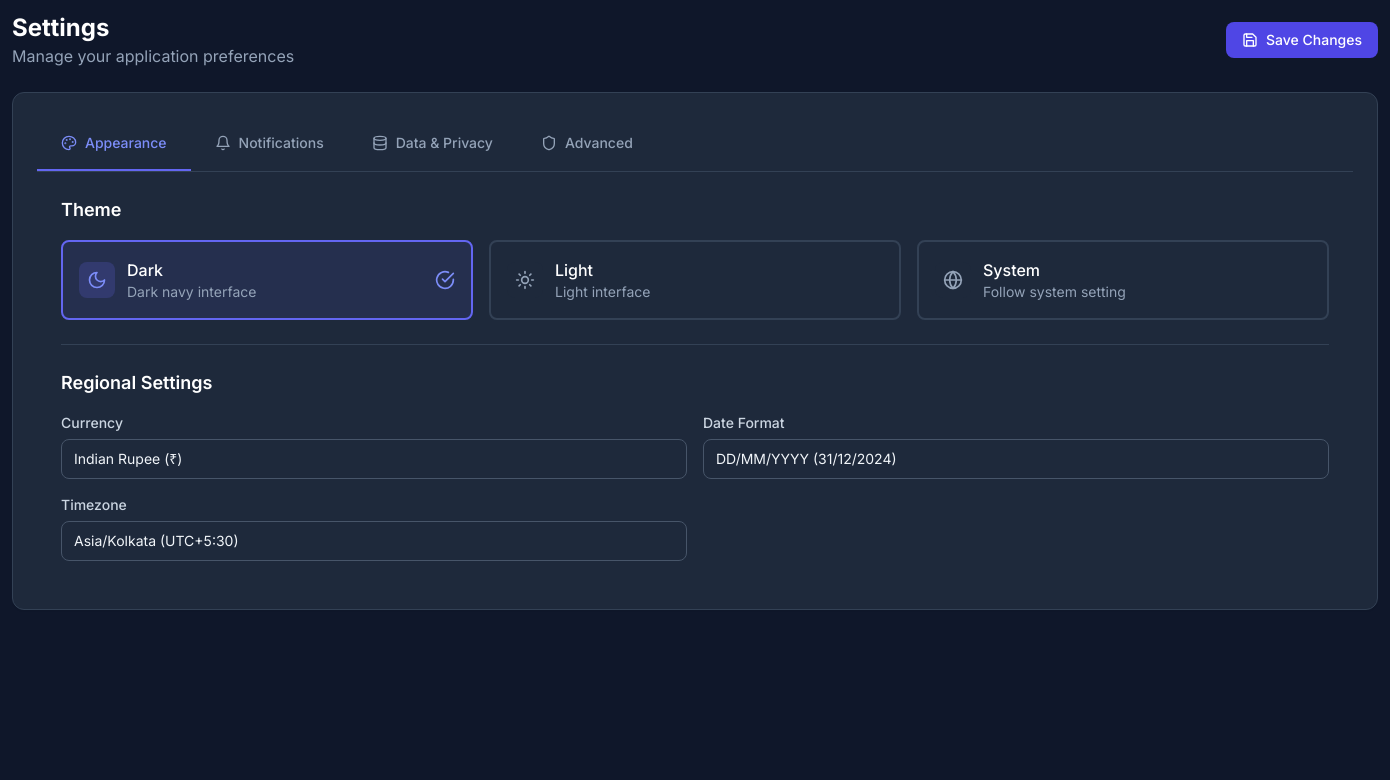
Settings Page › shows a saved confirmation after saving
Click the button "Save Changes": click(1302, 40) [1226,22,1378,58]
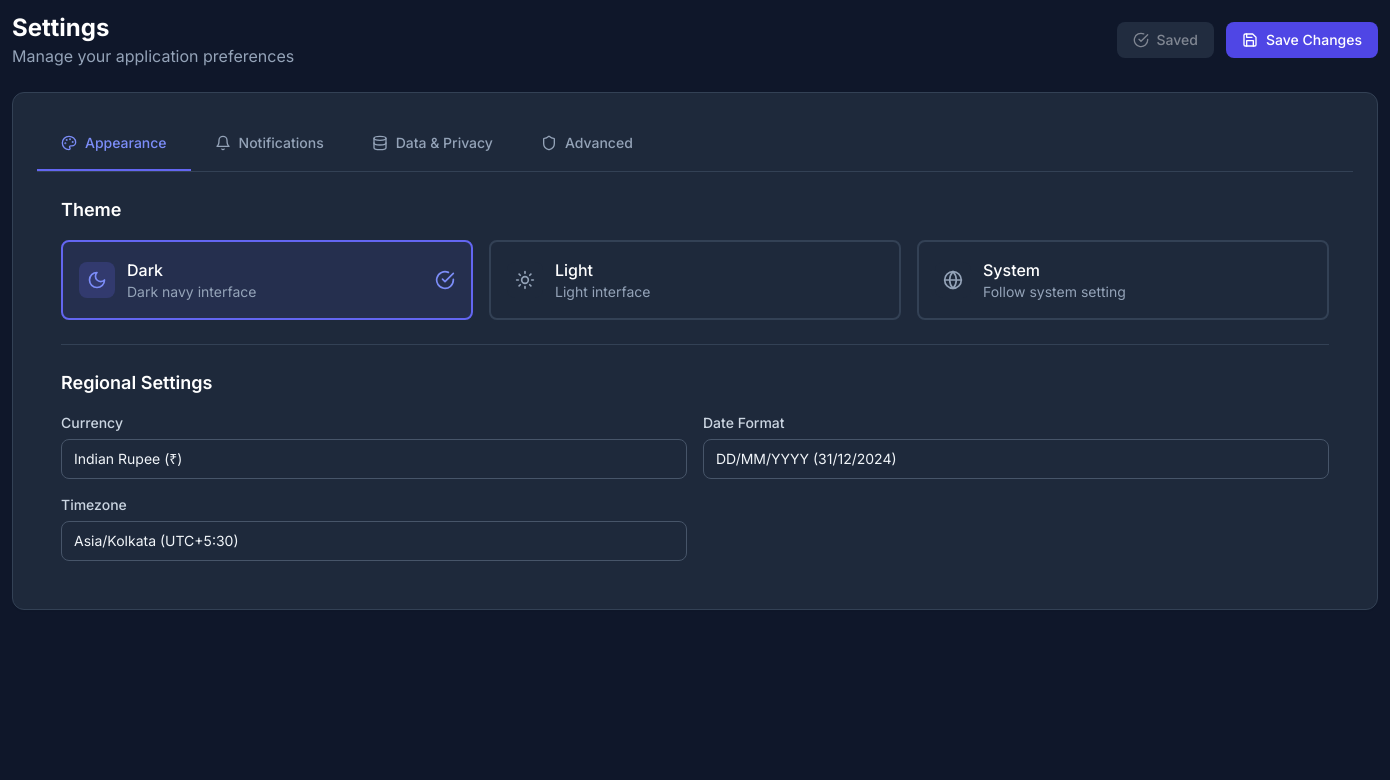
Expected: the button "Saved" is shown, [1116,22,1214,58]
